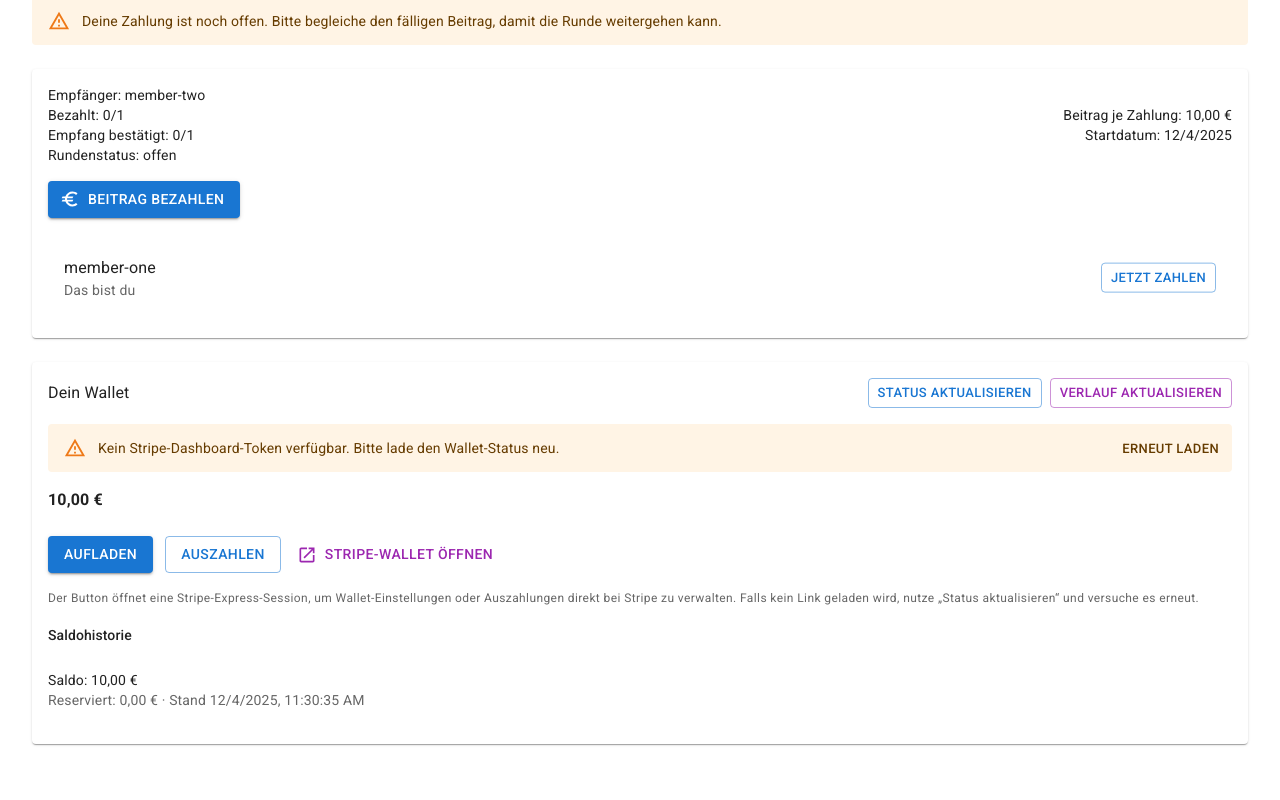
Payments wallet flows › submits a top-up request with the entered amount
(page scrolled)
Click the button "Aufladen" at (101, 555), box [48,536,153,573]
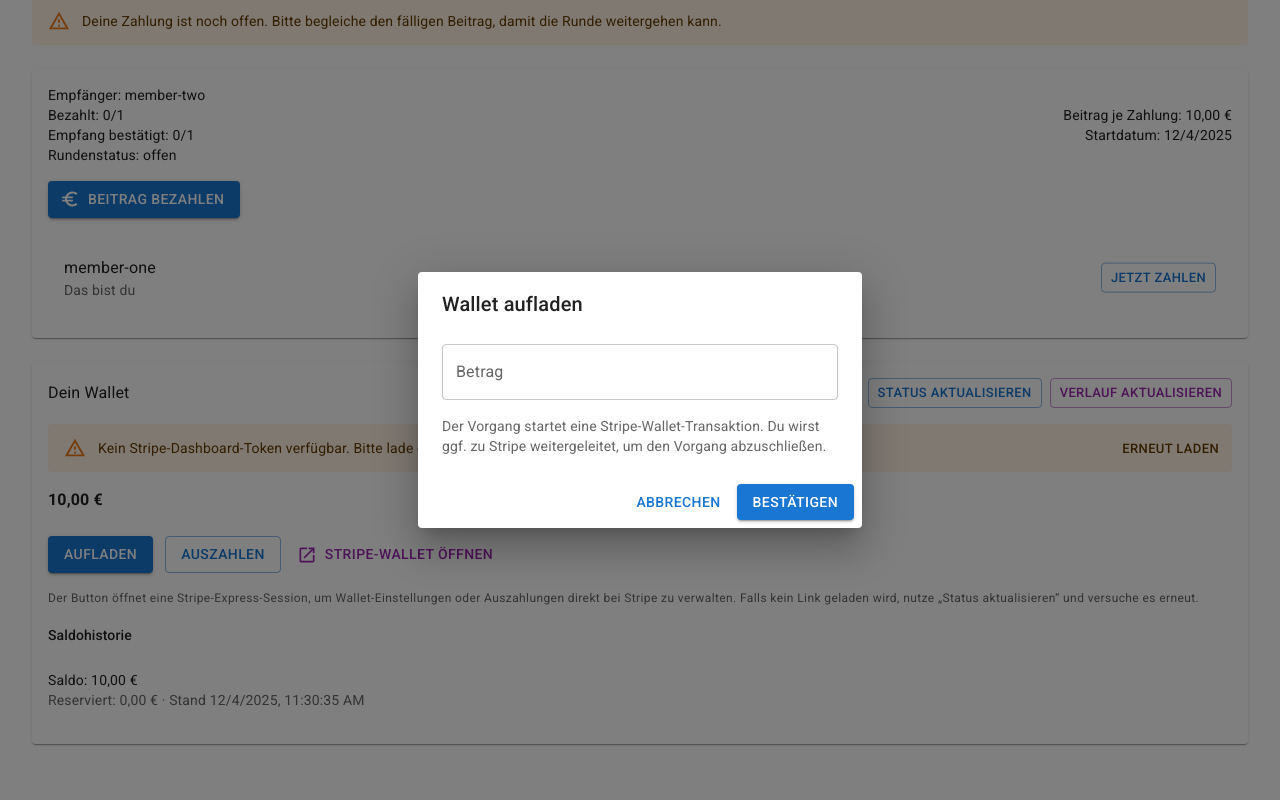
Type "5" into the number field labelled "Betrag" at (640, 372), box [442,344,838,400]
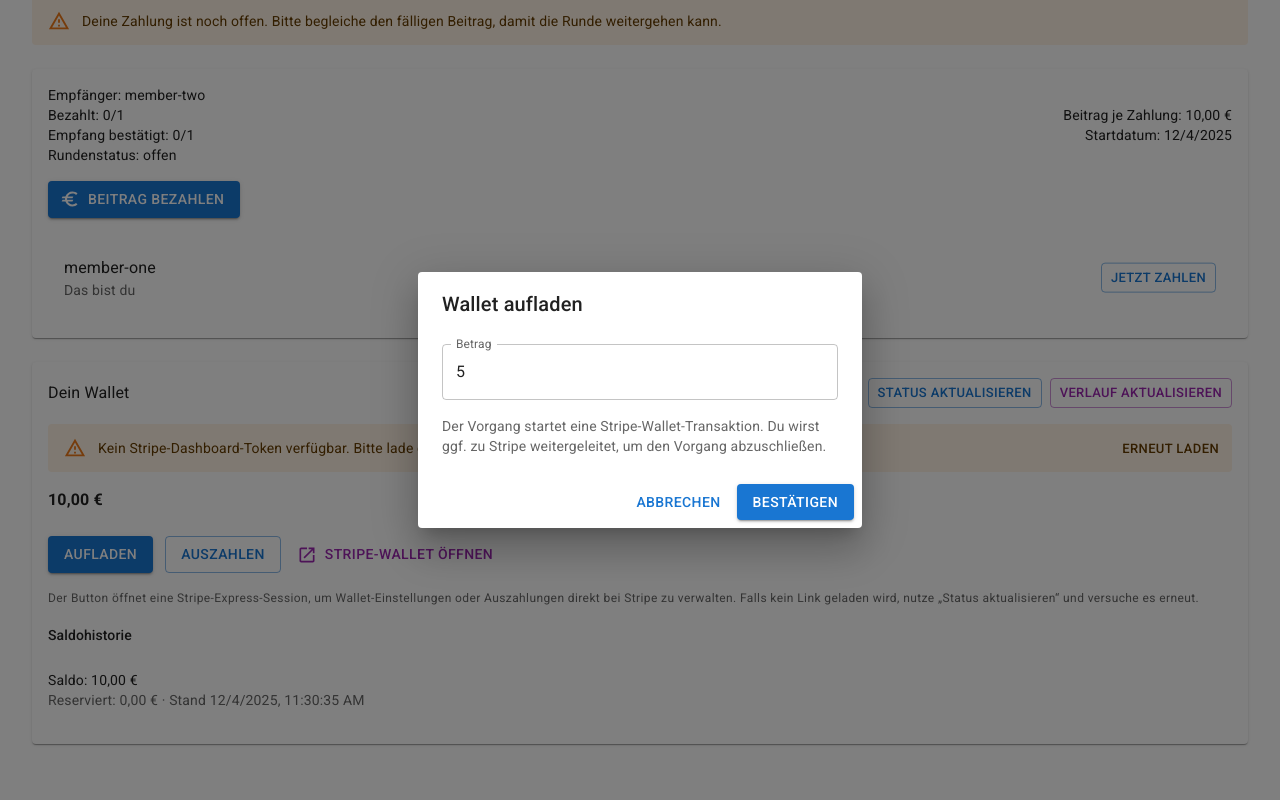
Click the button "Bestätigen" at (795, 502), box [737,484,854,520]
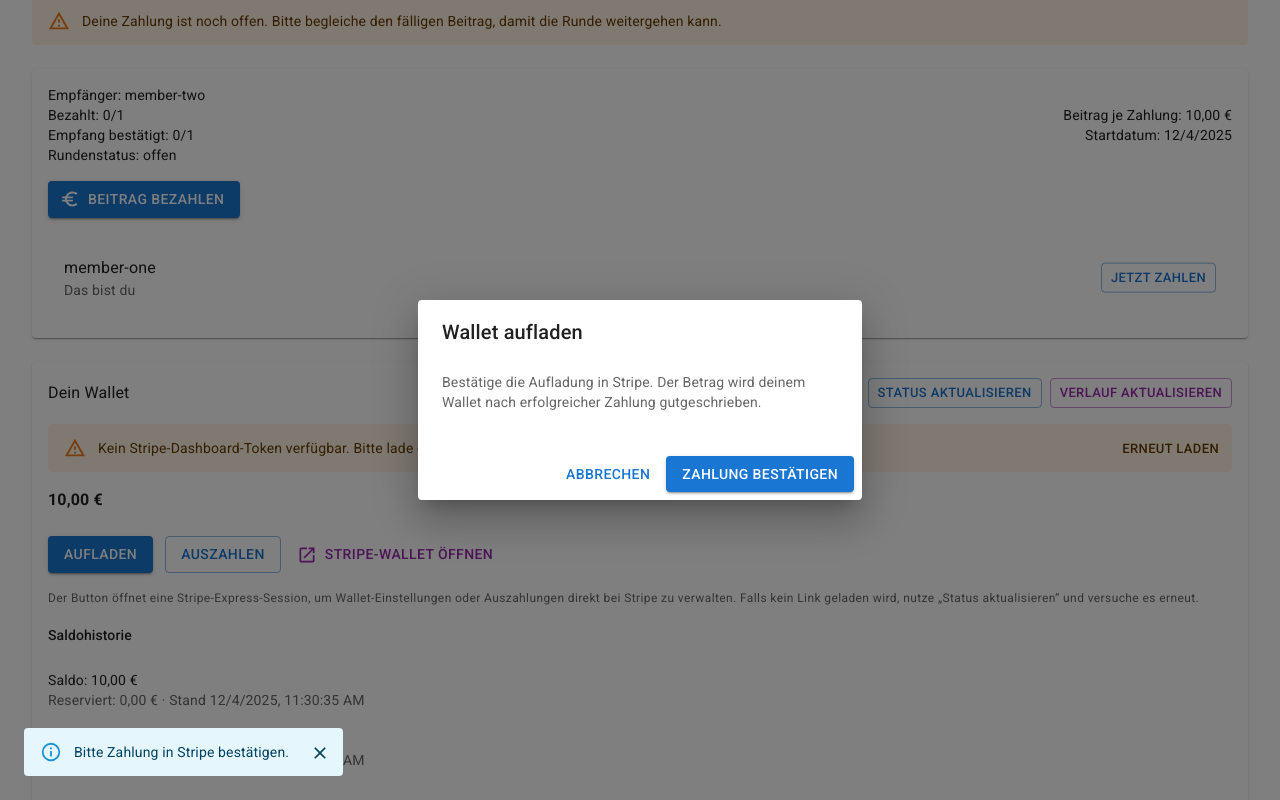
Expected: the text "Bitte Zahlung in Stripe bestätigen." is shown, [74,744,289,760]
